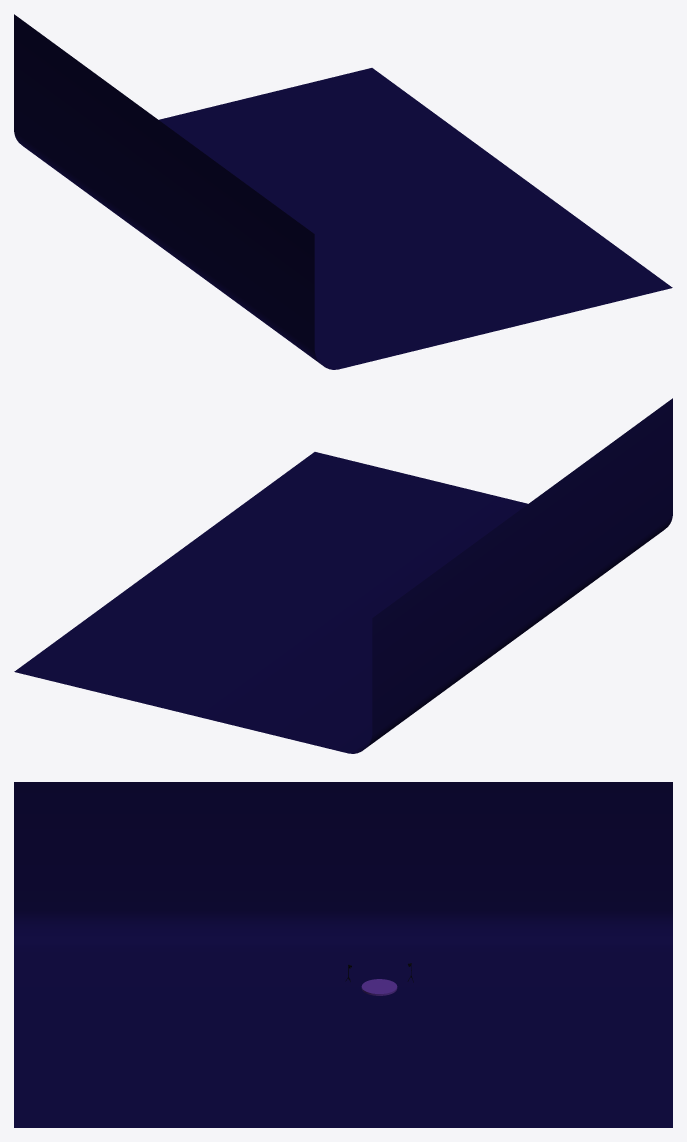
The model's file is StageDark.glb.
3 renders of one model, top to bottom at view 1: azimuth 30°, elevation 25°; view 2: azimuth 150°, elevation 25°; view 3: azimuth 270°, elevation 25°, orthographic. The views are drawn at different scales.
Visible parts, largest first — view 1: backdrop; view 2: backdrop; view 3: backdrop.
Boxes of the visible parts, <box> form: backdrop: <box>14,14,672,369</box>; backdrop: <box>14,398,672,753</box>; backdrop: <box>14,782,672,1127</box>.
Bounding box in the file's own units: 328 × 125 × 478.
